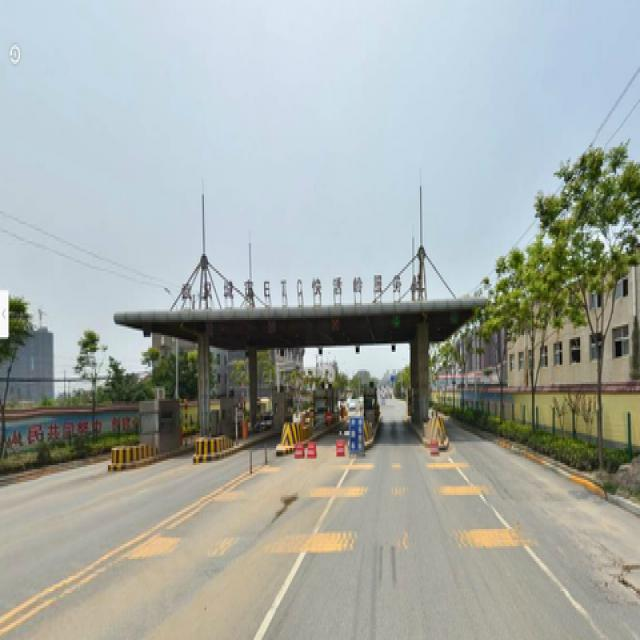koel: (571, 179, 628, 450), (516, 250, 551, 428), (482, 278, 510, 424), (81, 335, 108, 431)
